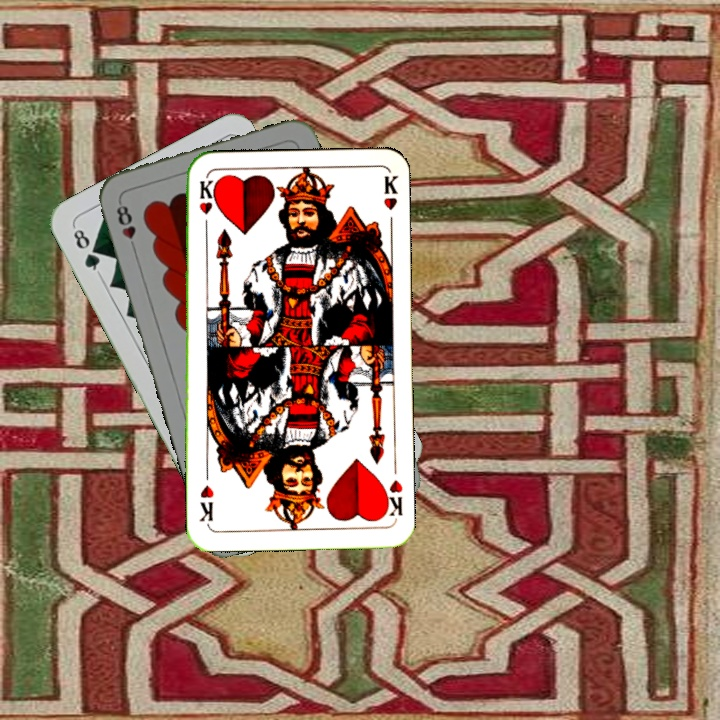G8: (69, 222, 103, 277)
H8: (112, 197, 139, 255)
HK: (195, 176, 215, 235), (379, 476, 405, 520)
